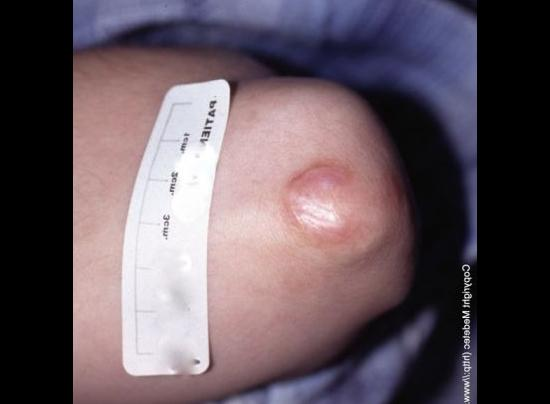NonPU: (263, 154, 375, 259)
